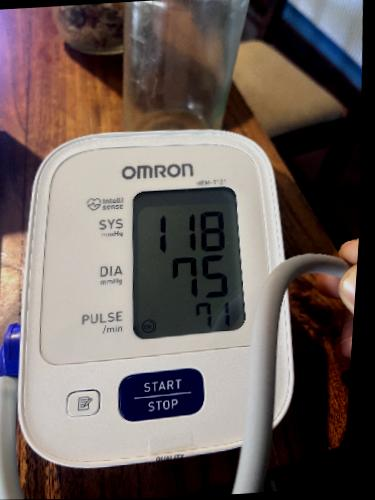bpm: (119, 184, 247, 341)
